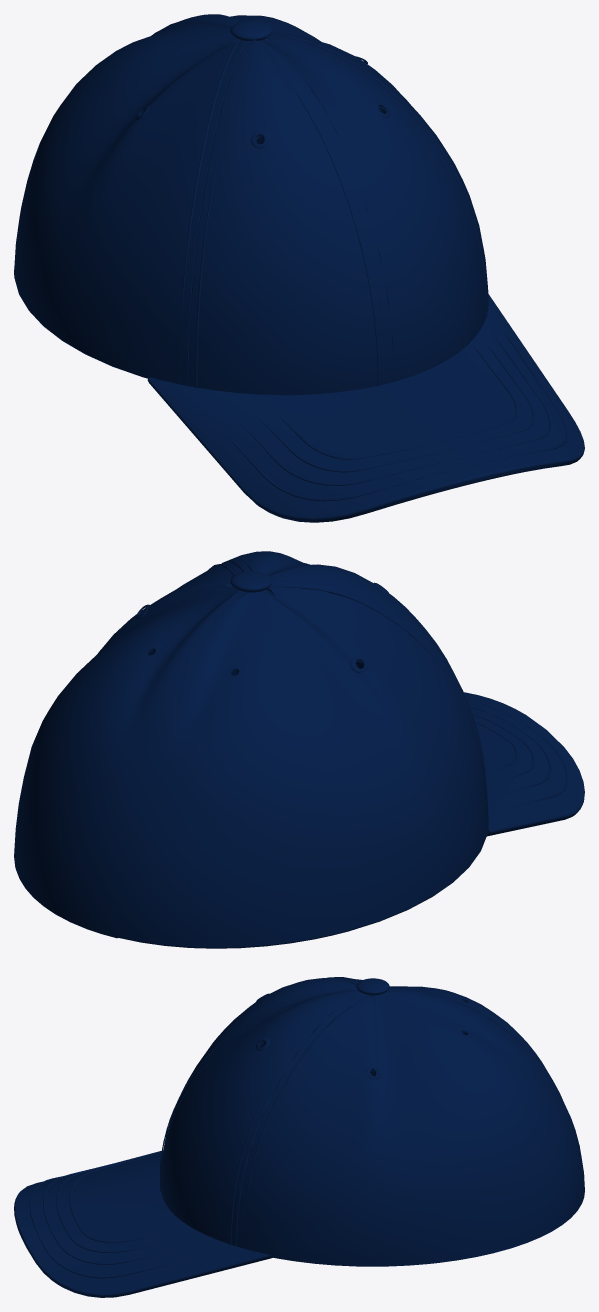
File: Kacket.fbx
3 views of the same model, one above another, from view 1: azimuth 30°, elevation 25°; view 2: azimuth 150°, elevation 25°; view 3: azimuth 270°, elevation 25° (orthographic). The views are drawn at different scales.
Visible parts, largest first — view 1: Baseball Cap (×8); view 2: Baseball Cap (×4); view 3: Baseball Cap (×8).
Boxes of the visible parts, bbox=[...] form: Baseball Cap (×8): bbox=[14, 14, 584, 522]; Baseball Cap (×4): bbox=[14, 551, 584, 948]; Baseball Cap (×8): bbox=[14, 977, 584, 1297].
Size of the model in its own units: 162 by 128 by 259.
